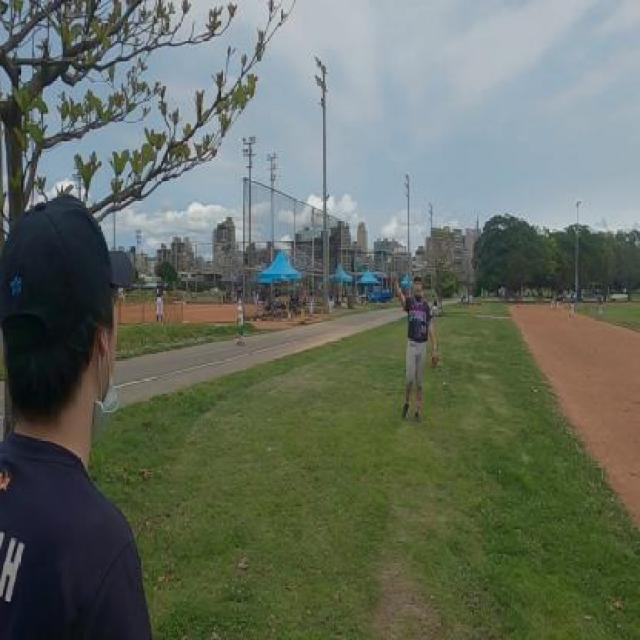baseball: (387, 258, 391, 265)
